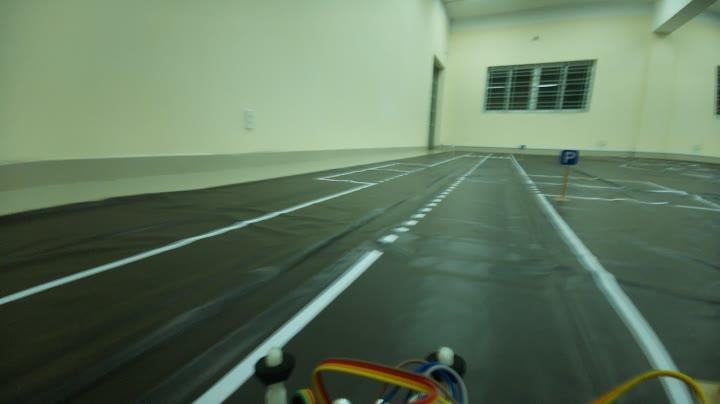parking: (556, 139, 579, 170)
